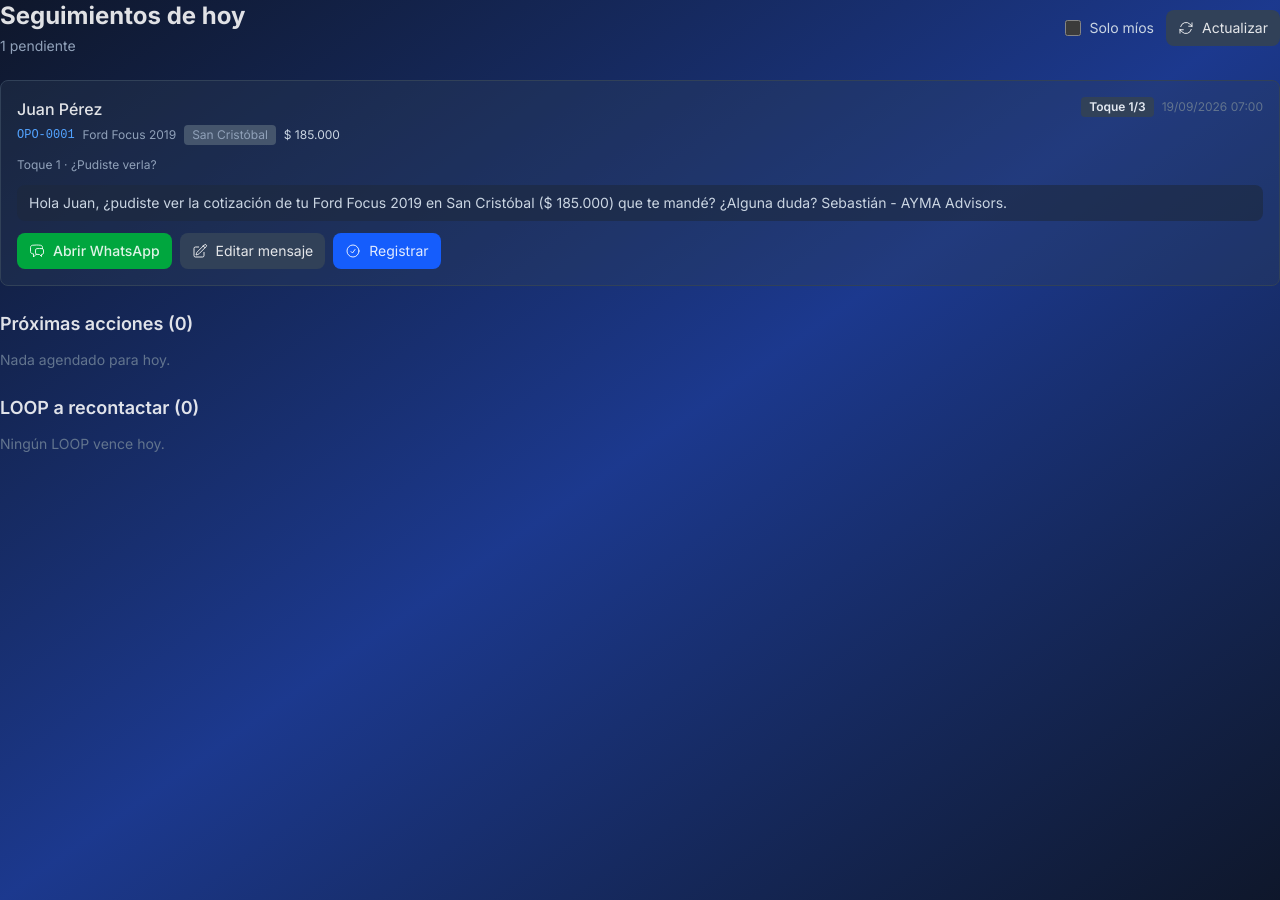
Test: Registrar toque · ¿hubo respuesta? sin default › con respuesta y sin elegir la acción no se envía
Check: the button "Juan Pérez" is shown, box [17,97,102,121]
Click the button "Registrar" at (387, 251), box [333,233,440,269]
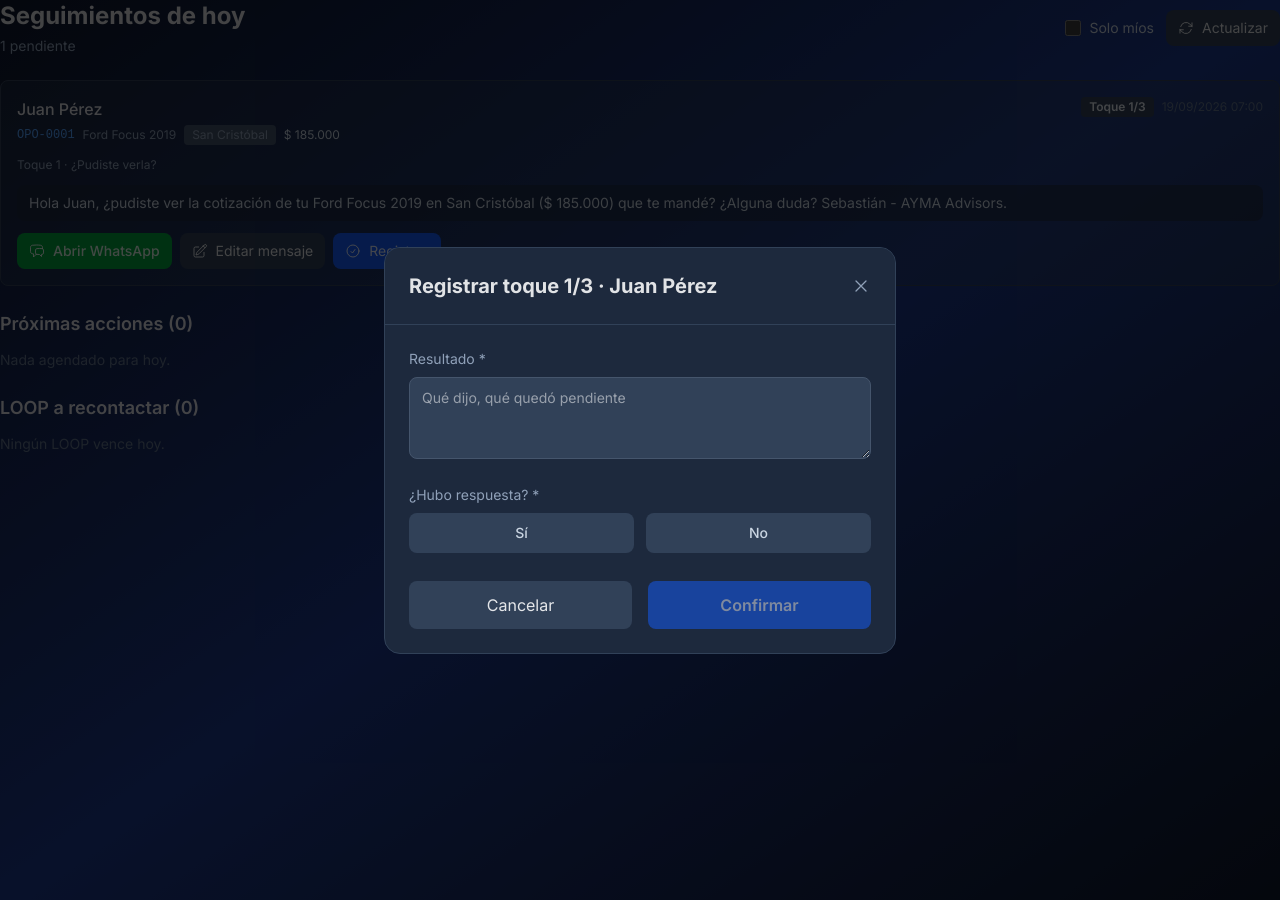
Type "Hablamos" into the text box labelled "Resultado *" at (640, 418), box [409,376,871,458]
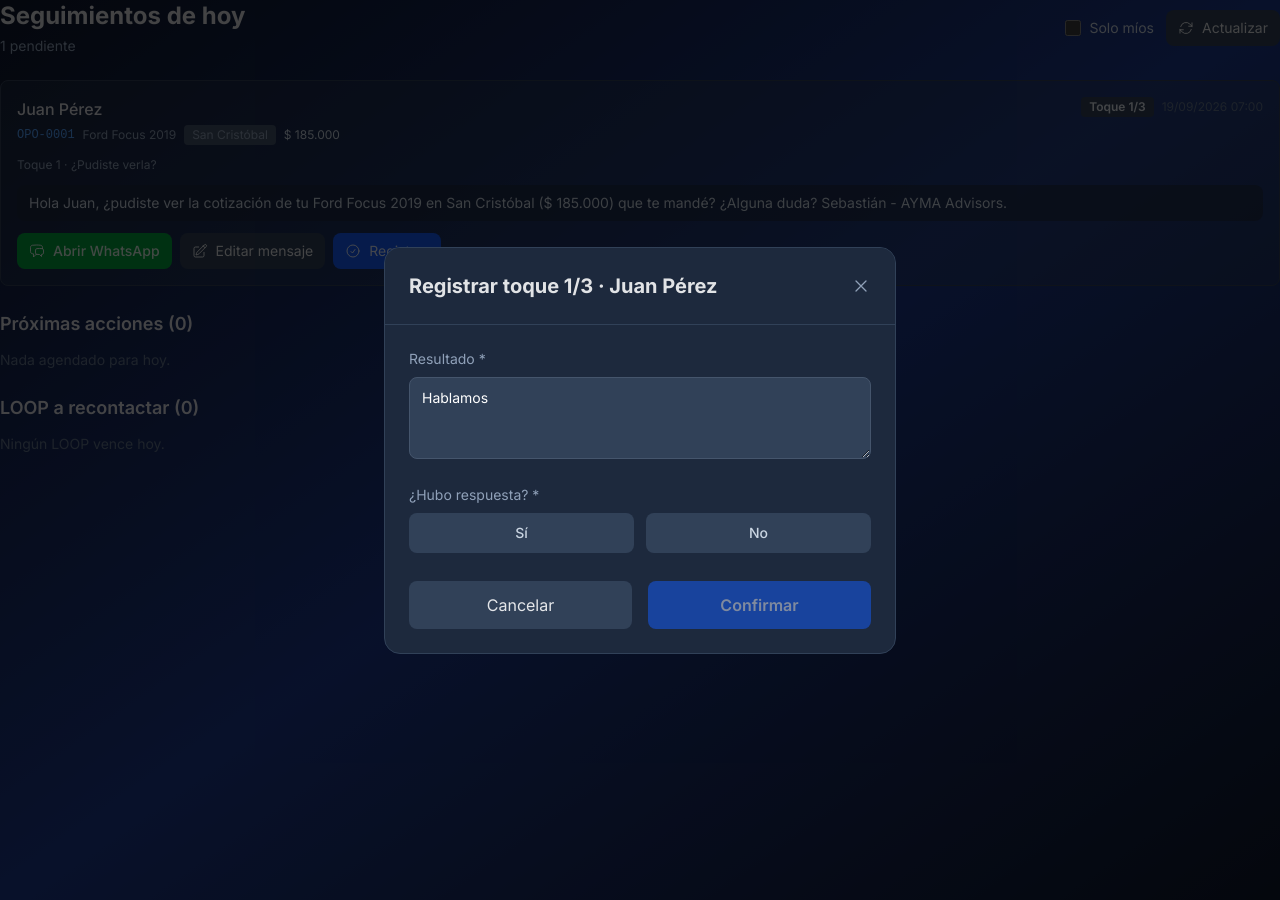
Click the radio button labelled "Sí" at (522, 532), box [409,512,634,552]
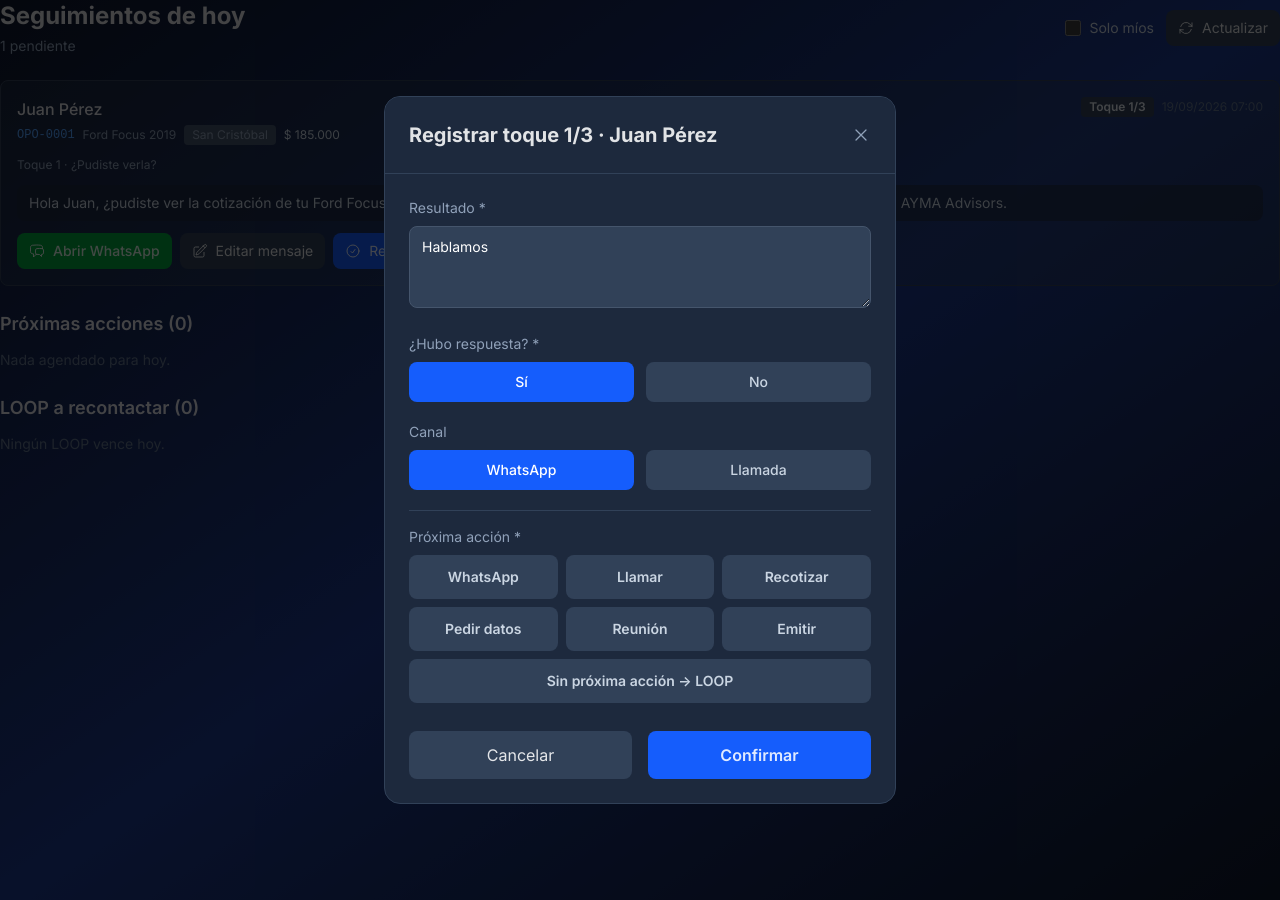
Check: the element "próxima acción" is shown, box [409,555,871,703]
Click the button "Confirmar" at (760, 755), box [648,731,871,779]
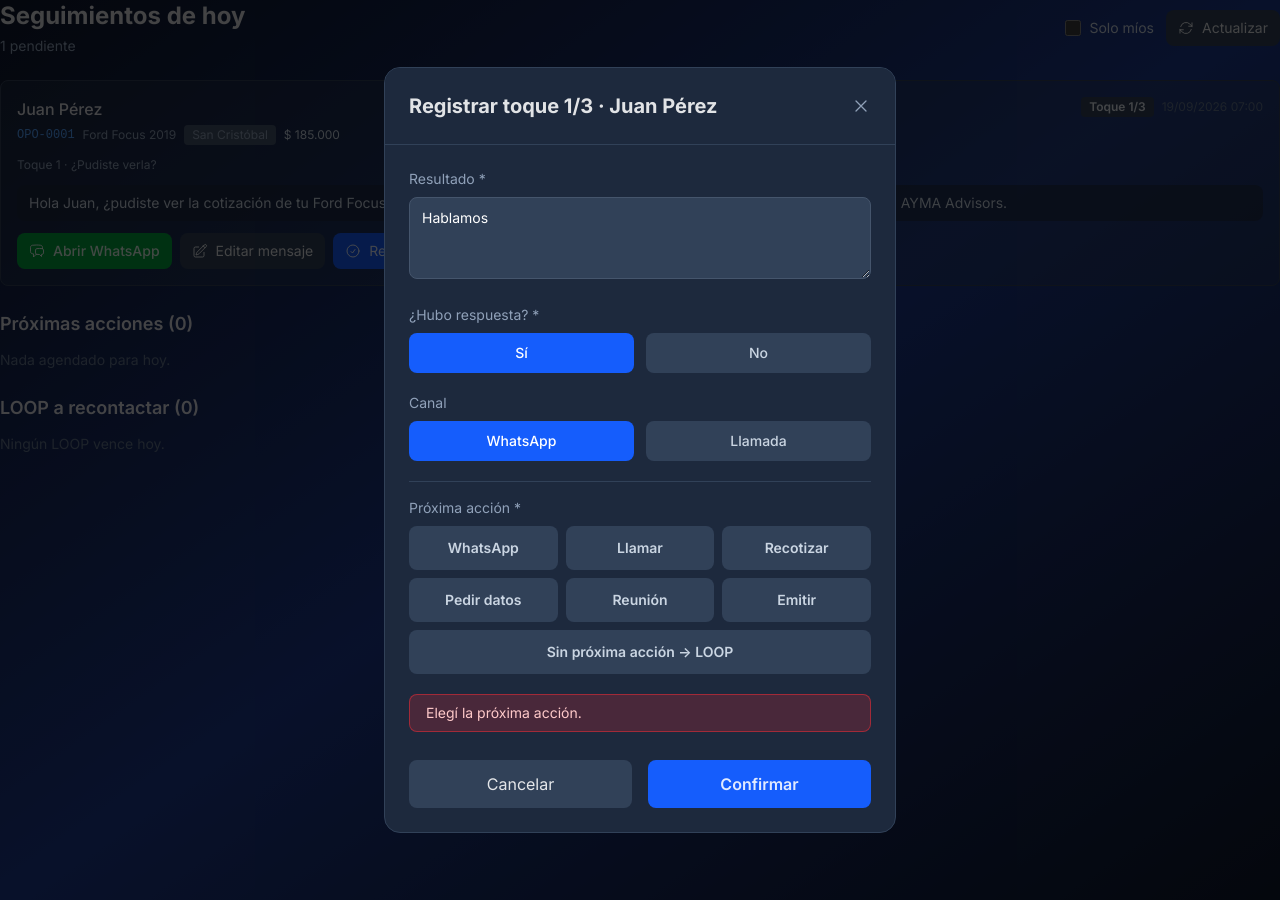
Check: the message "Elegí la próxima acción." is shown, box [409,694,871,732]
